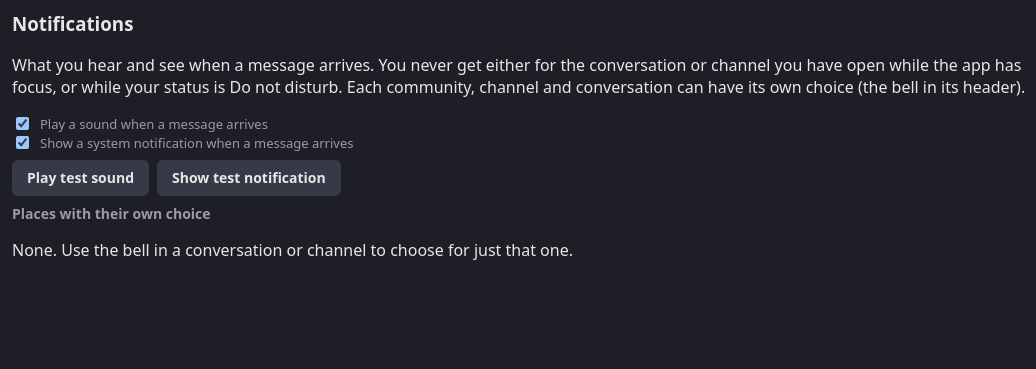
Test: Settings -> Notifications › the test buttons › says when the browser has not allowed sound yet
This screenshot has width=1036, height=369.
Click the button "Play test sound": x=80, y=178 [12, 160, 149, 196]
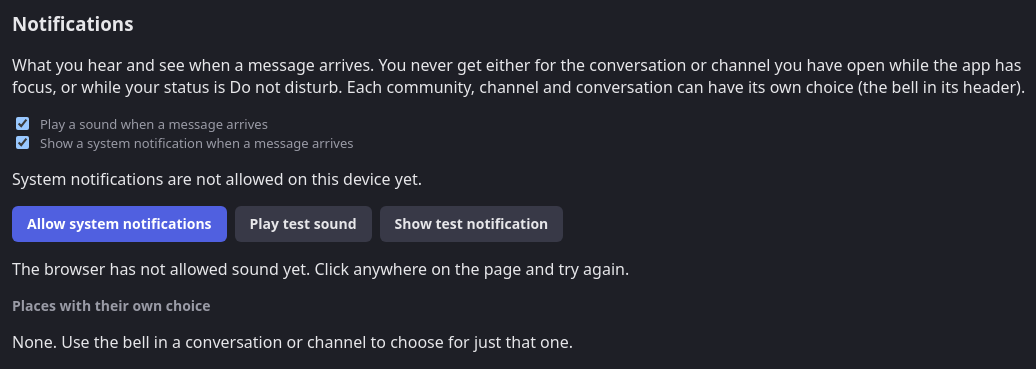
Now the text "has not allowed sound yet" is shown, box [12, 258, 629, 280]
